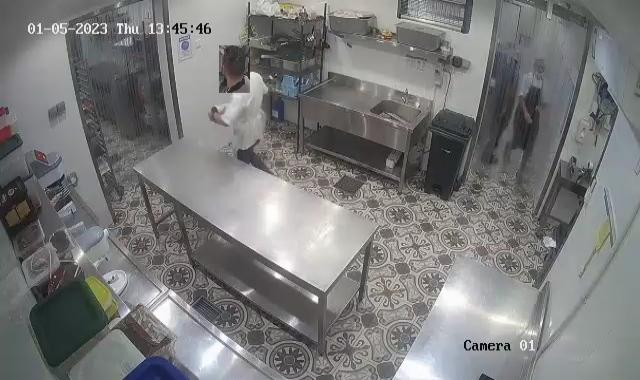no_hairnet: (221, 46, 250, 81)
